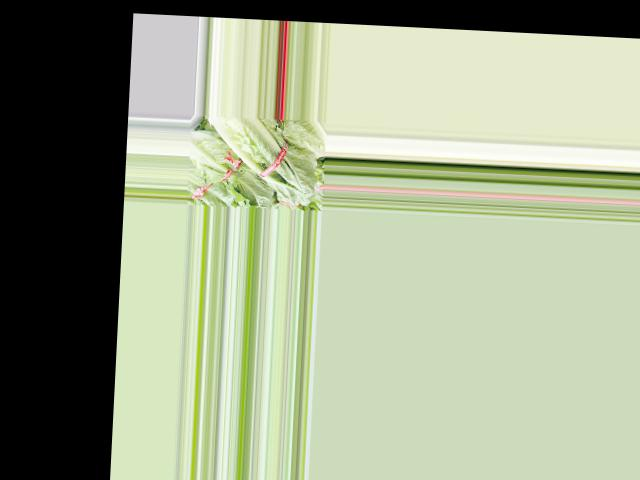lettuce: (205, 114, 320, 207)
